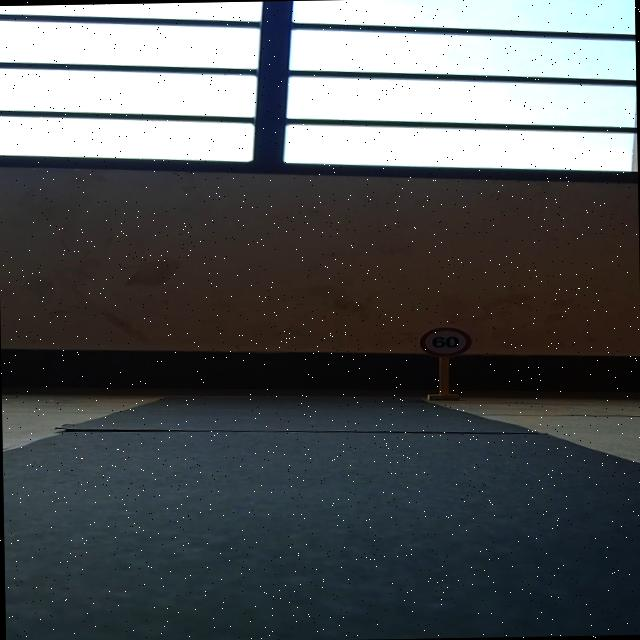Speed60: (410, 326, 478, 357)
